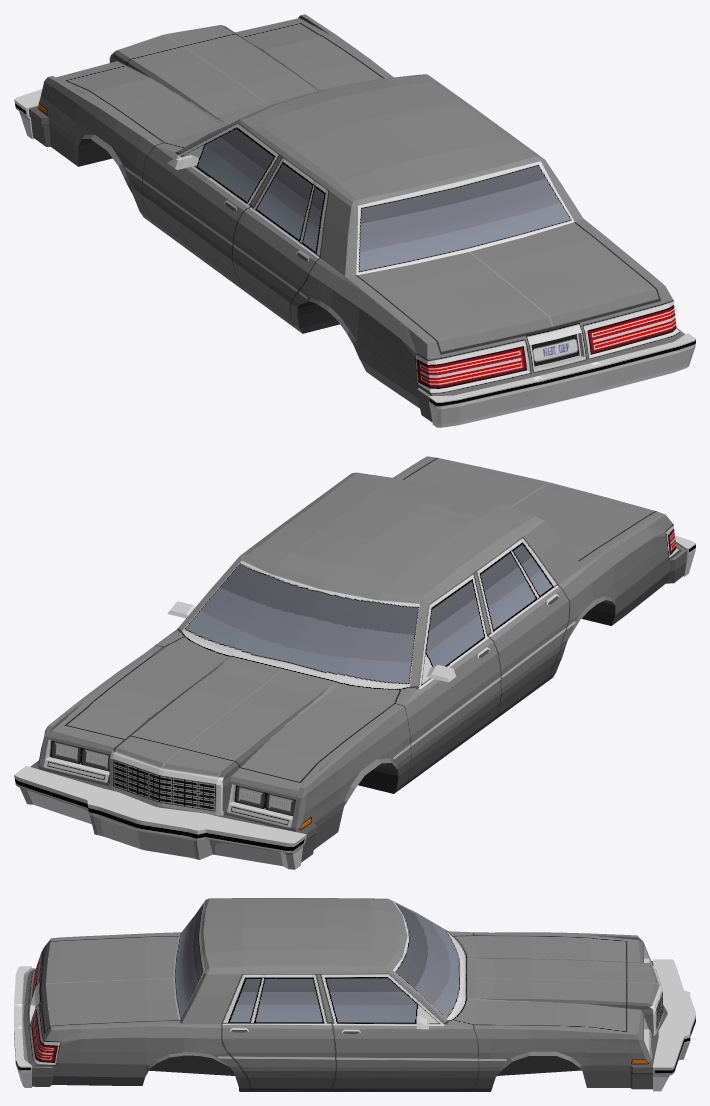
The model's file is 81newport.fbx.
3 renders of one model, top to bottom at view 1: azimuth 30°, elevation 25°; view 2: azimuth 150°, elevation 25°; view 3: azimuth 270°, elevation 25°, orthographic. The views are drawn at different scales.
Parts seen in each view (by area): view 1: 81newport; view 2: 81newport; view 3: 81newport.
Part boxes in pixels (x1,y1,x2,y2): 81newport: [14, 14, 695, 427]; 81newport: [14, 456, 695, 869]; 81newport: [14, 898, 695, 1091].
Size of the model in its own units: 2.35 by 1.17 by 6.24.
